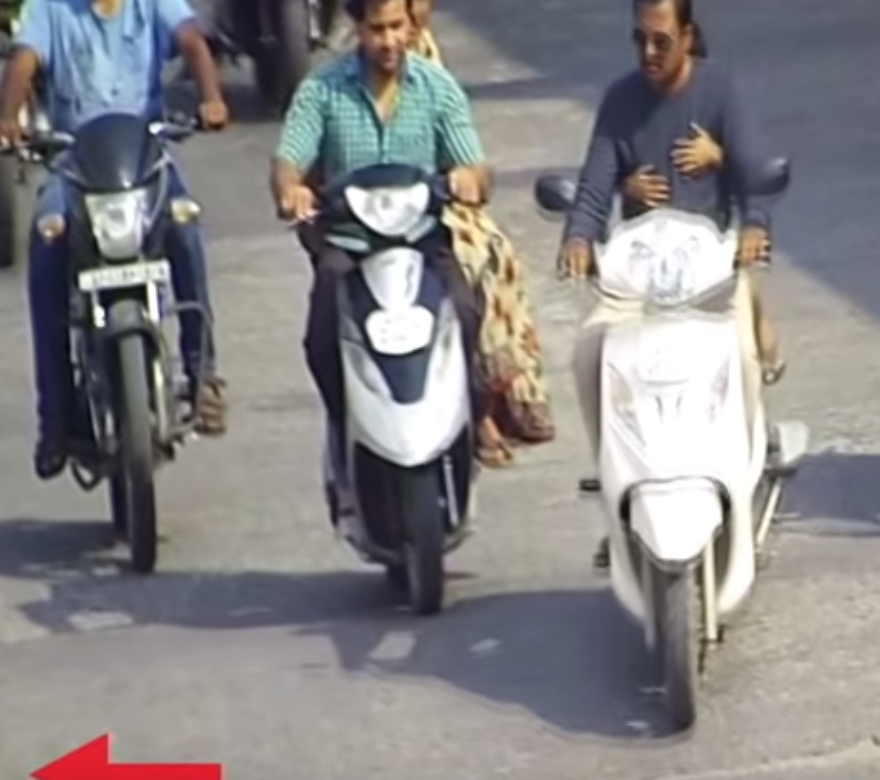h_bike: (575, 8, 792, 733), (269, 5, 520, 618), (28, 3, 224, 582)
h_nohelmet: (622, 1, 696, 93), (347, 1, 424, 88)
numplate: (71, 259, 181, 295), (358, 305, 439, 352), (632, 337, 705, 388)
